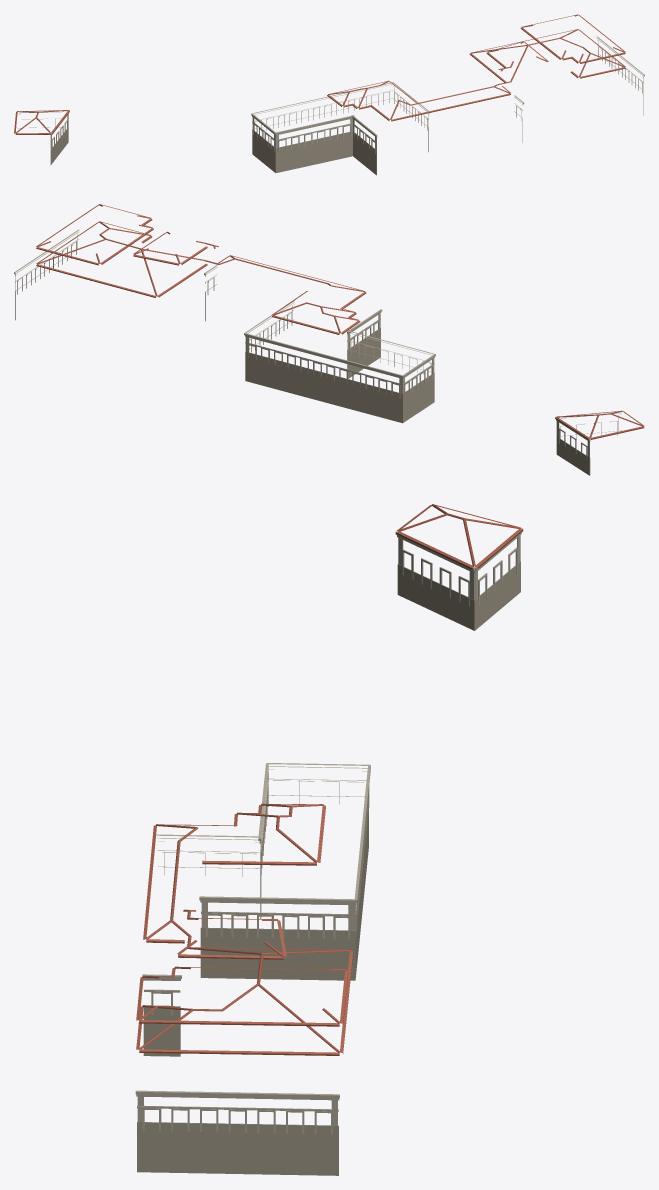
3 views of the same model, one above another, from view 1: azimuth 30°, elevation 25°; view 2: azimuth 150°, elevation 25°; view 3: azimuth 270°, elevation 25° (orthographic). The views are drawn at different scales.
Visible parts, largest first — view 1: detail; view 2: detail; view 3: detail.
Part boxes in pixels (box(x1,y1,x2,y2)): detail: box(14, 14, 644, 175); detail: box(14, 204, 644, 475); detail: box(135, 504, 523, 1175).
Bounding box in the file's own units: 124 × 15.12 × 37.2.
